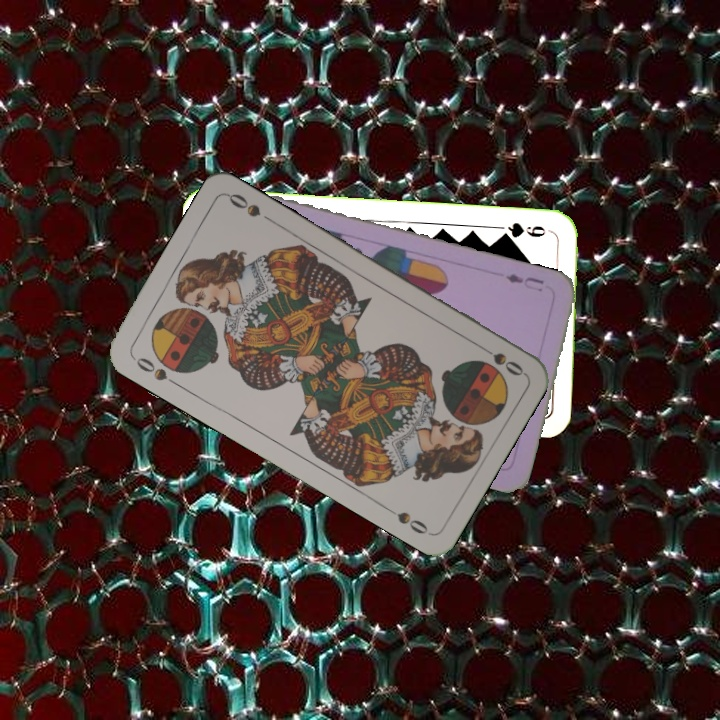EU: (501, 269, 547, 295)
G9: (496, 219, 556, 241)
SO: (473, 340, 527, 379), (128, 352, 182, 389)
